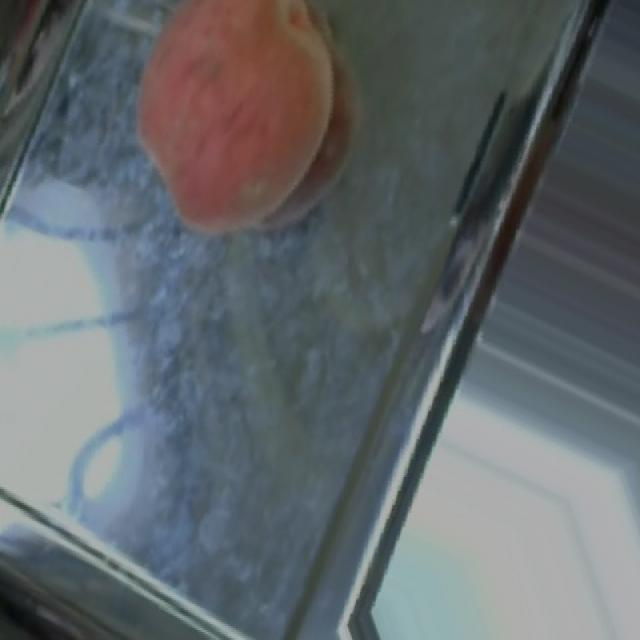Fruit: (100, 0, 372, 264)
